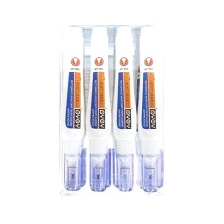correction_fluid: (134, 24, 166, 194), (81, 25, 112, 194), (108, 24, 139, 192), (57, 25, 87, 193)
plastic_box: (53, 20, 169, 201)
